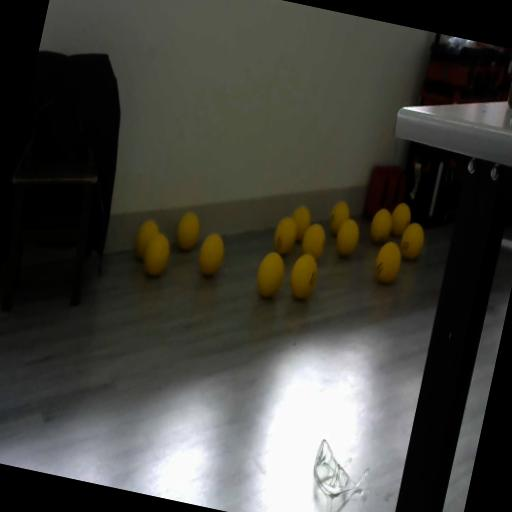FUEL: (250, 246, 288, 302), (284, 248, 322, 302), (138, 228, 174, 280), (370, 237, 404, 287), (194, 230, 228, 278), (172, 208, 204, 254), (396, 220, 428, 262), (332, 215, 362, 259), (298, 219, 328, 262), (286, 202, 314, 244), (367, 206, 395, 246), (387, 200, 414, 238)
